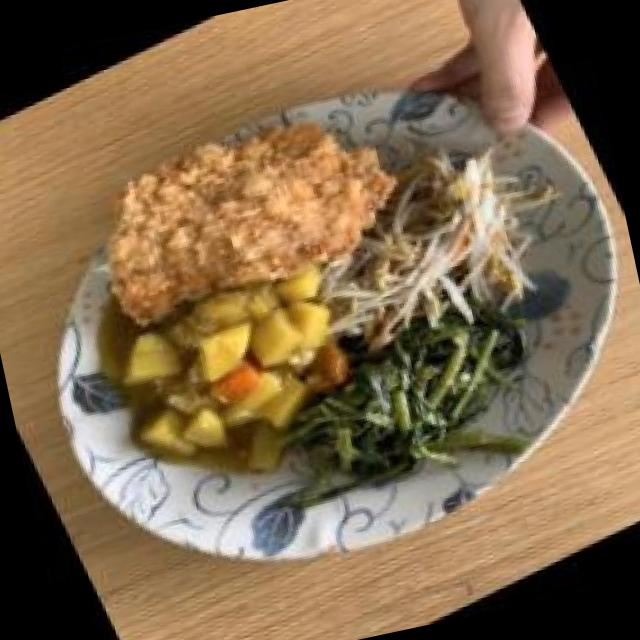curry: (116, 280, 341, 462)
fried_chicken: (95, 98, 382, 330)
mung_bean_sprouts: (361, 182, 528, 330)
water_spinach: (319, 329, 507, 476)
